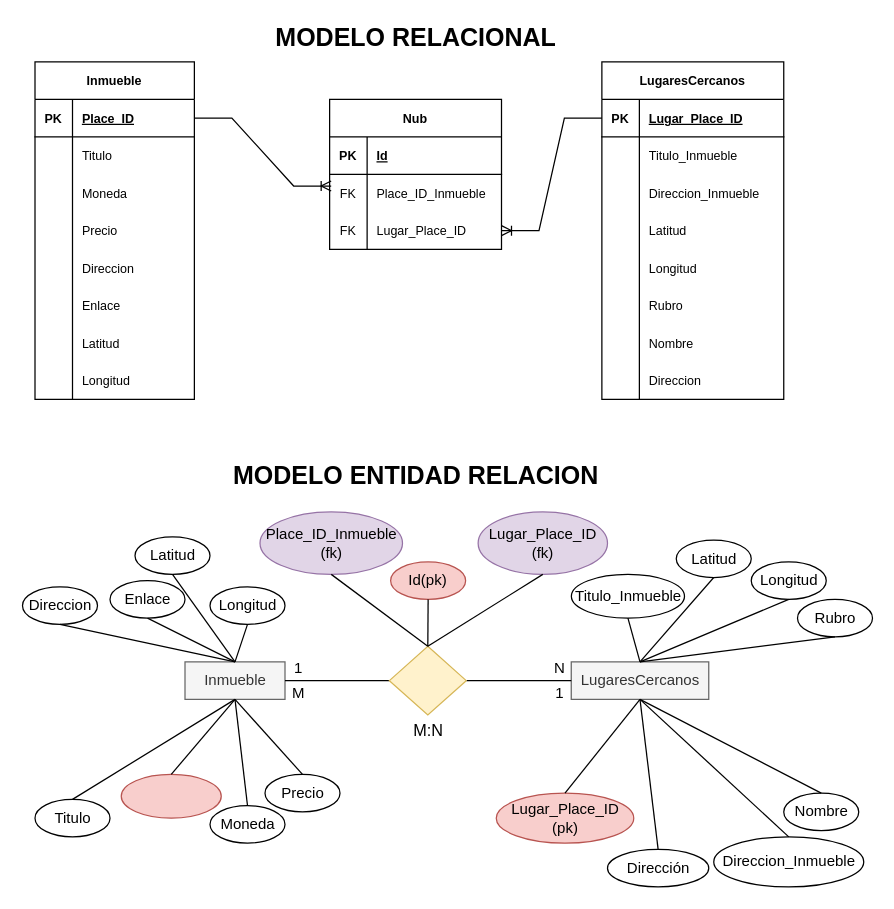
The diagram is 894 pixels wide and 909 high, and some of its shapes have lost their labels. The centre of each missing label's shape, as x and y in pixels:
Place_ID (pk): point (170, 795)
tener: point (427, 680)
